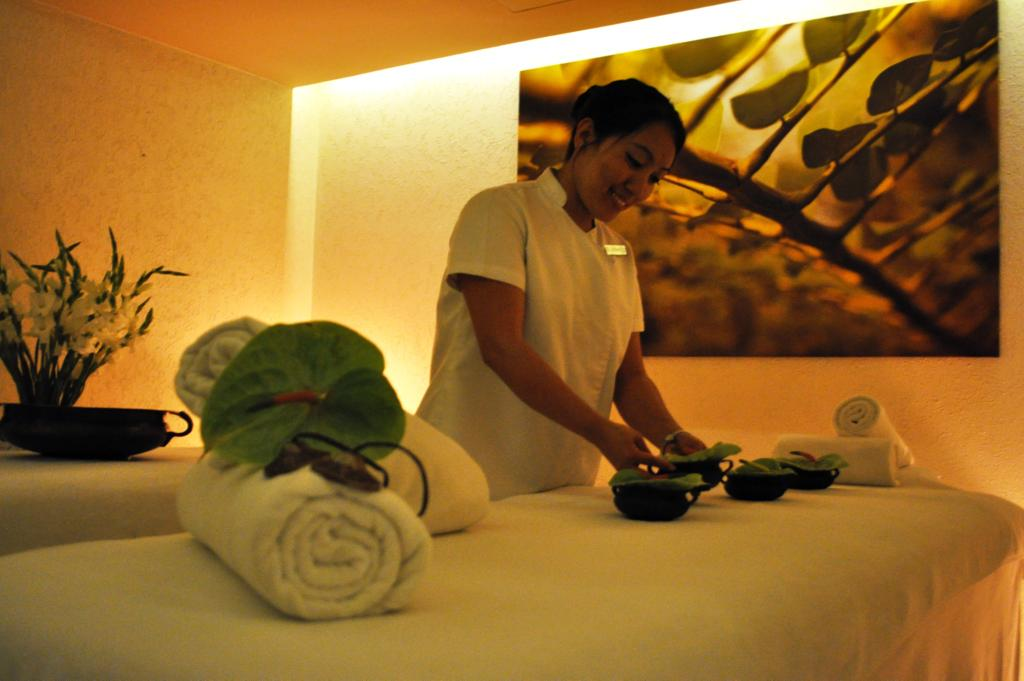face: (590, 138, 670, 218)
